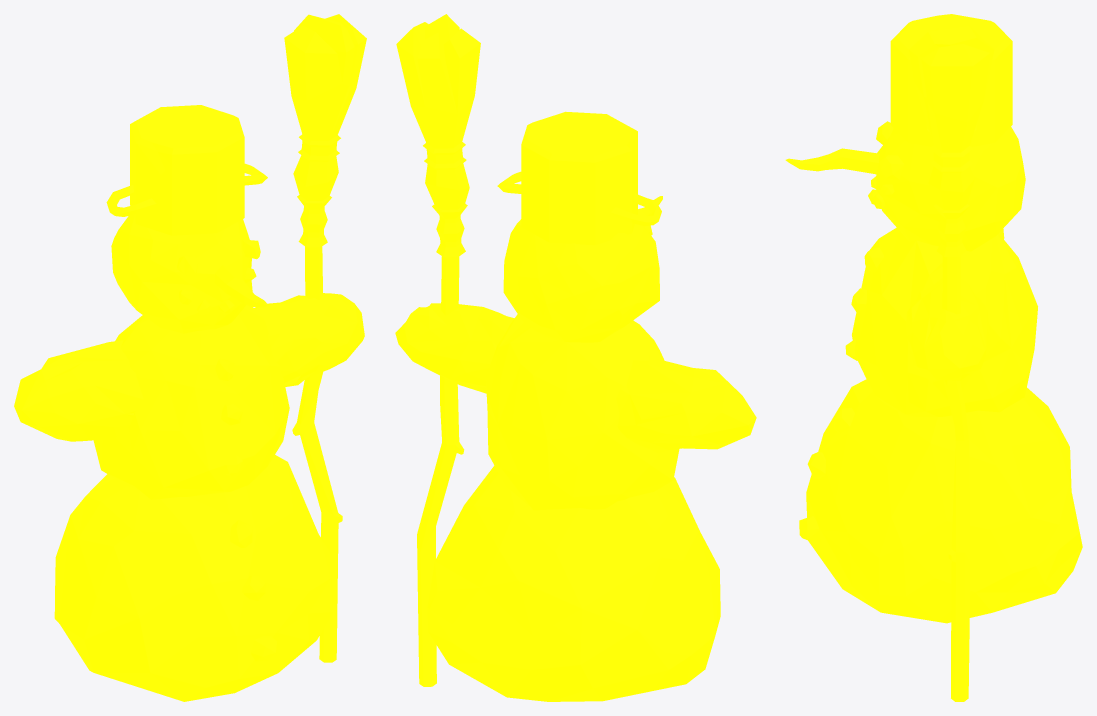
The model's file is snowman-b.glb.
3 views of the same model, side by side, from view 1: azimuth 30°, elevation 25°; view 2: azimuth 150°, elevation 25°; view 3: azimuth 270°, elevation 25° (orthographic). The views are drawn at different scales.
Parts seen in each view (by area): view 1: snowman_b; view 2: snowman_b; view 3: snowman_b.
Part boxes in pixels (x1=…): snowman_b: x1=14, y1=14, x2=366, y2=701; snowman_b: x1=395, y1=14, x2=756, y2=701; snowman_b: x1=785, y1=14, x2=1082, y2=701.
Bounding box in the file's own units: 0.8972 × 1.6 × 0.6481.
1 material, 1 textured.
